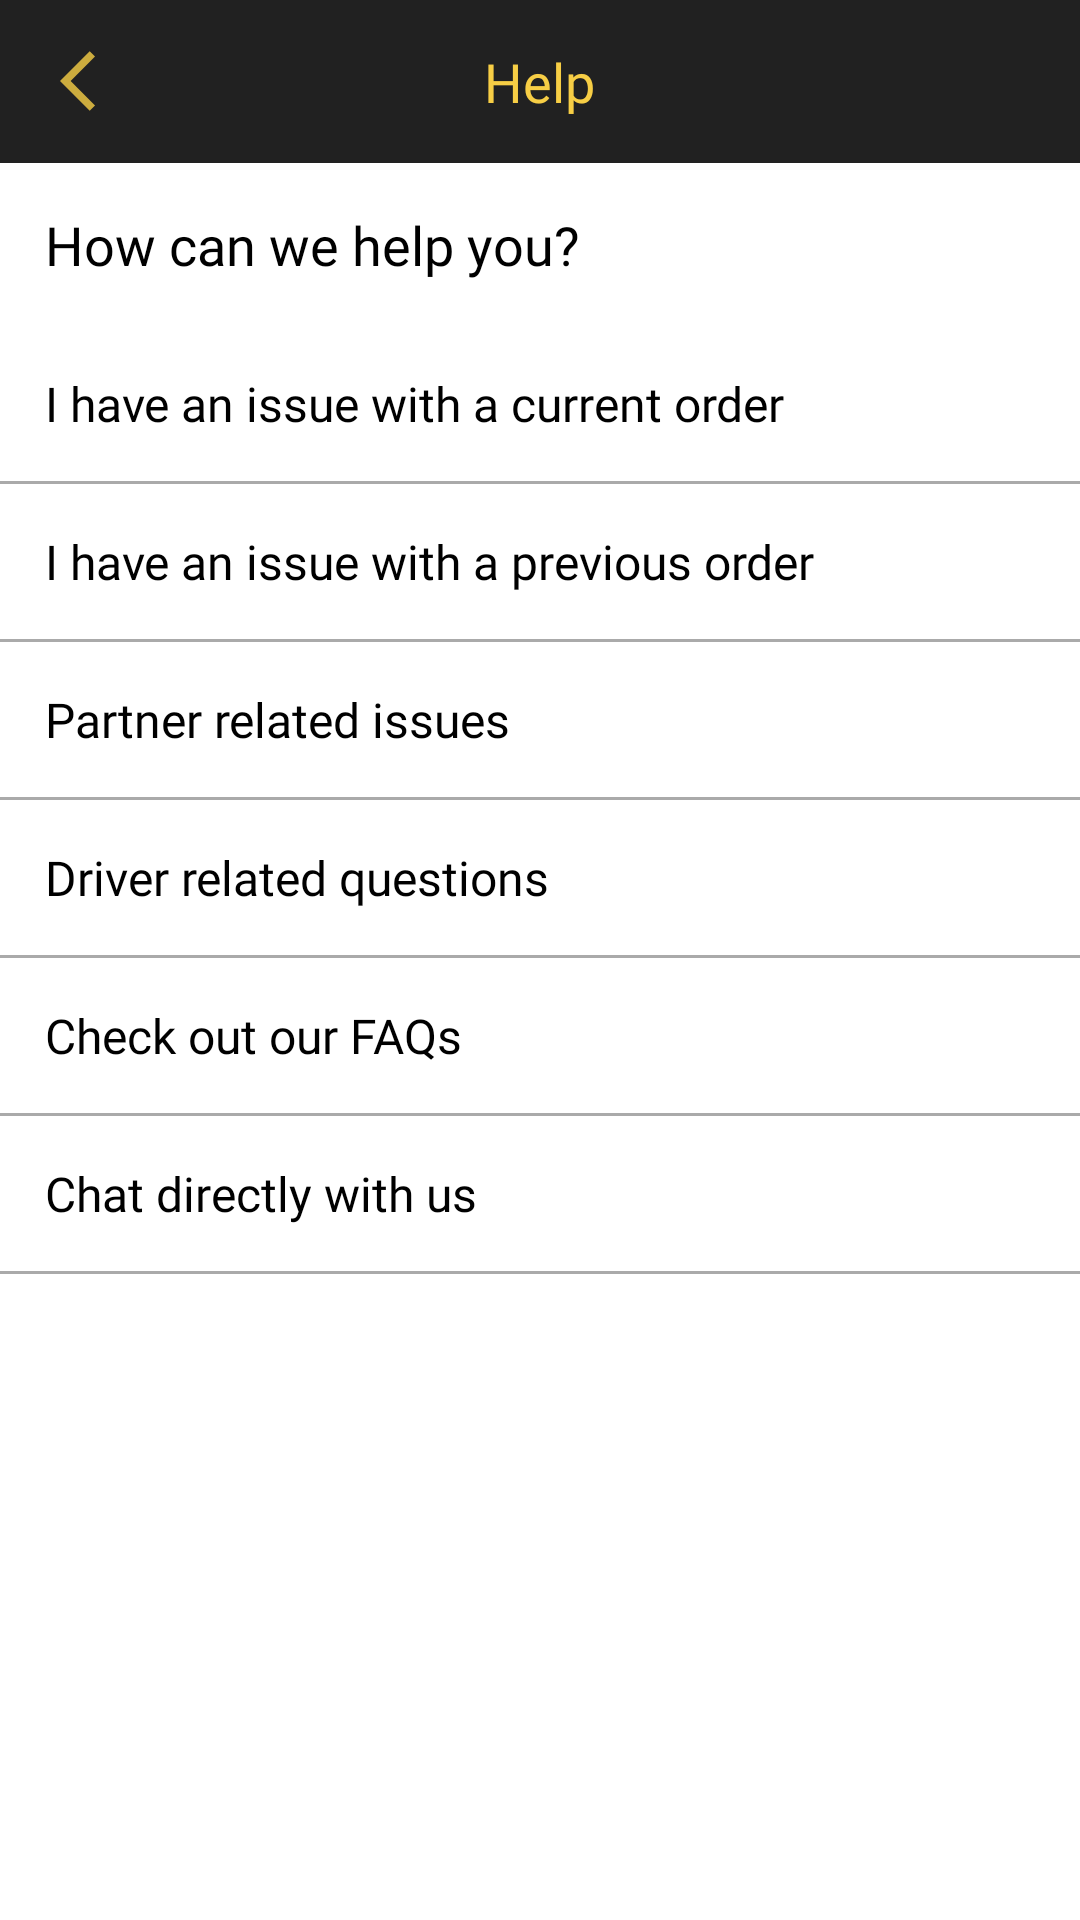

Screen size 1080 x 1920. Icon name, then its box in pixels as bbox=[x1, y1, x2, y2]:
back icon: bbox=[60, 51, 95, 111]
